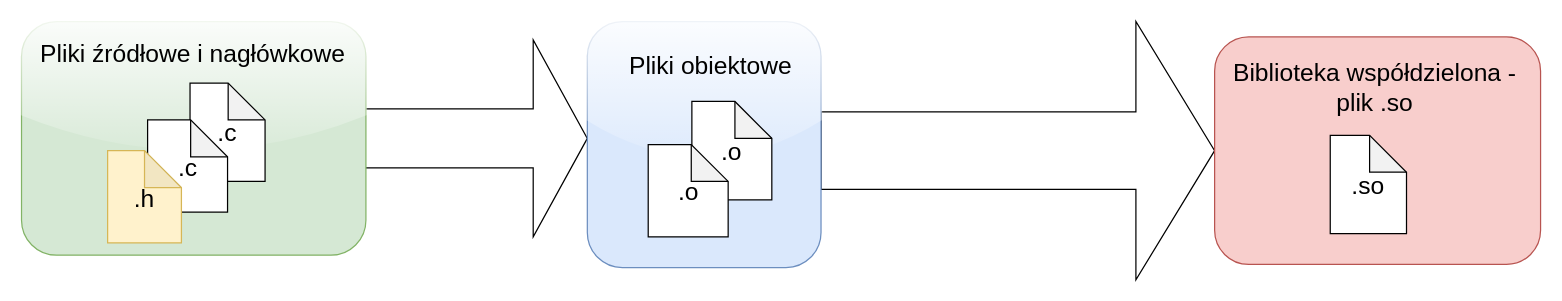
This 1562x301 diagram has some shape labels left out. The box of each missing label's shape, as (x1, y1, x2, y2) in pixels:
Kompilacja gcc -fPIC -c *.c: (315, 39, 587, 237)
Linkowanie: gcc -shared -Wl,-soname,libname.so.1 -o libname.so.1.0.0 *.o: (820, 20, 1215, 280)
